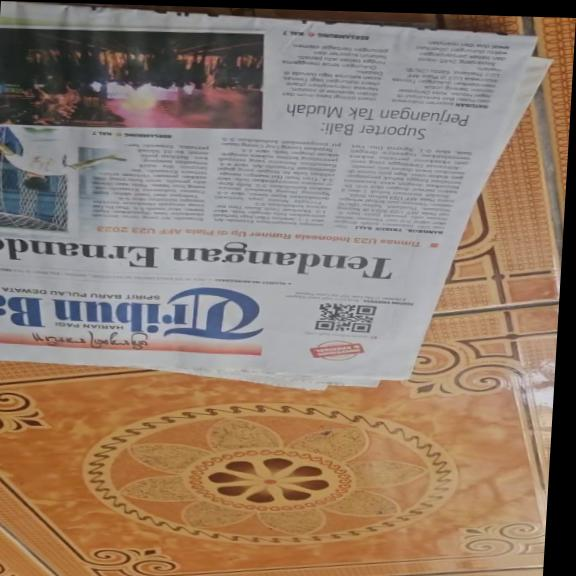Kertas: (0, 13, 430, 379)
